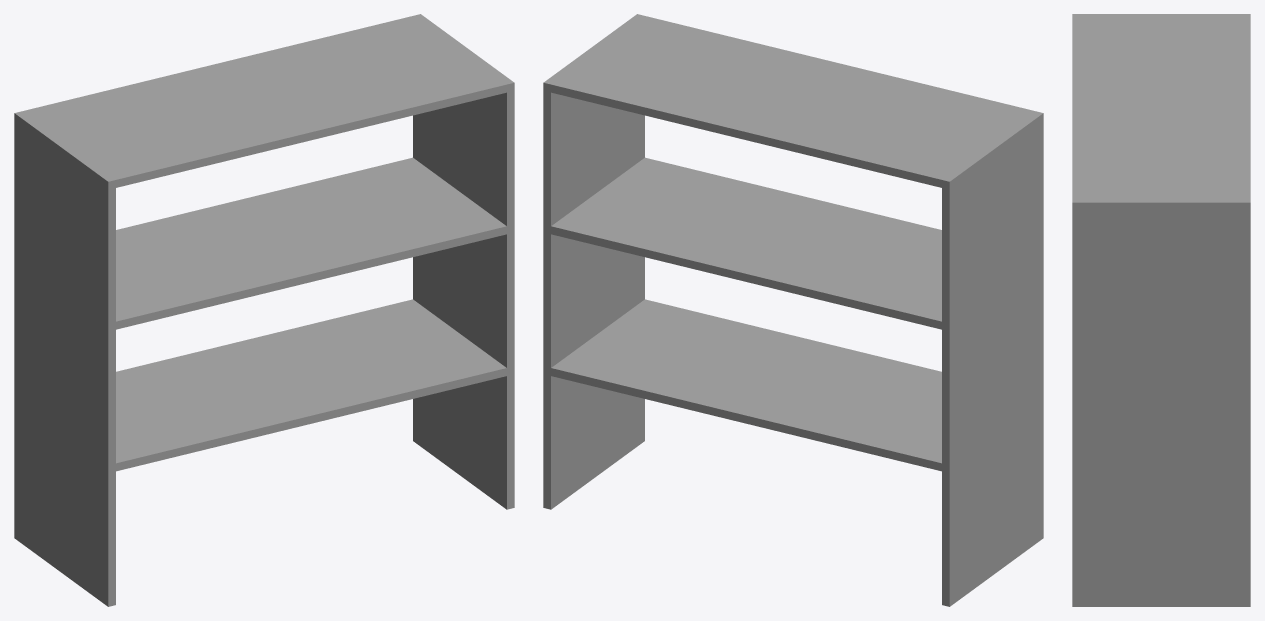
The model's file is meuble_68fb25f7efd80.glb.
3 renders of one model, left to right at view 1: azimuth 30°, elevation 25°; view 2: azimuth 150°, elevation 25°; view 3: azimuth 270°, elevation 25°, orthographic. The views are drawn at different scales.
Visible parts, largest first — view 1: world; view 2: world; view 3: world.
Part boxes in pixels (x1,y1,x2,y2): world: (14,14,514,606); world: (543,14,1043,606); world: (1072,14,1250,606).
Size of the model in its own units: 1 by 1 by 0.4.
Materials: 1 (1 with a texture image).
